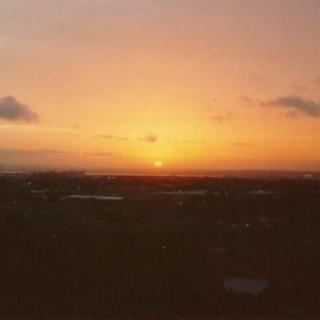Stratus: (0, 0, 320, 178)
